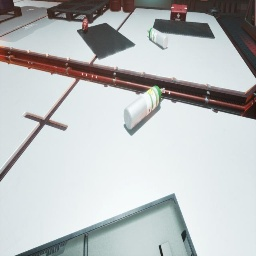0: (124, 86, 165, 130), (147, 28, 168, 49)
FireExtinguisher ]: (82, 16, 88, 32)
FirstAidBox ,: (170, 4, 187, 21)
